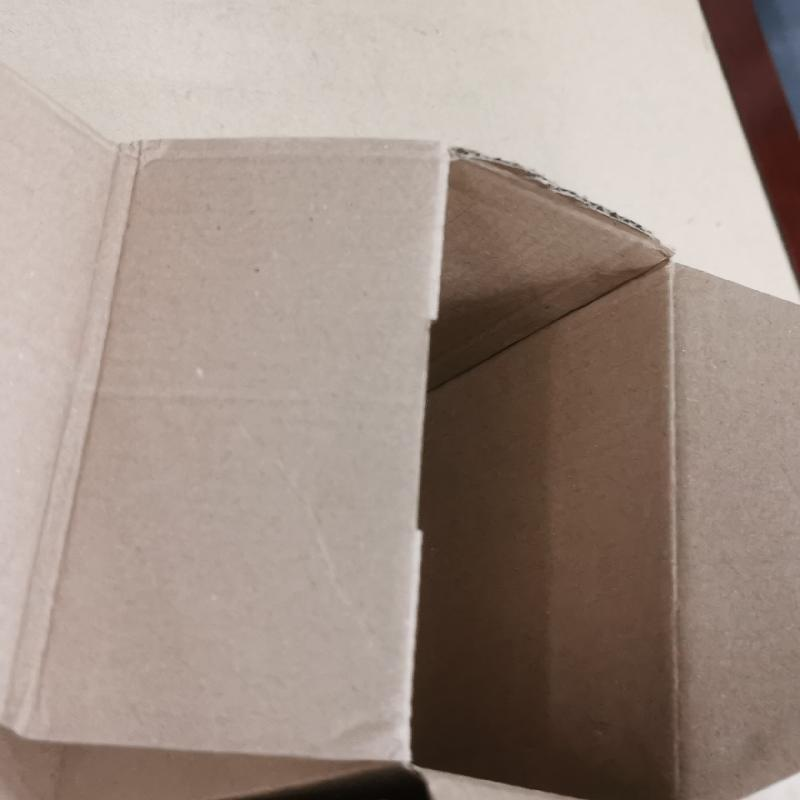boxes: (3, 66, 799, 800)
